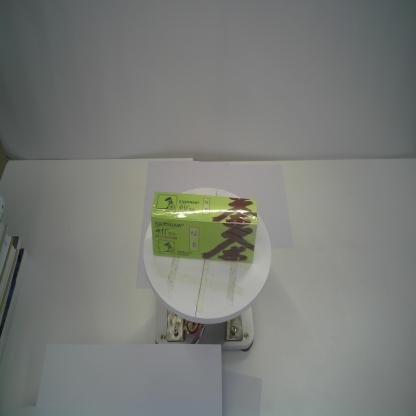Instant Drink: (150, 190, 259, 264)
